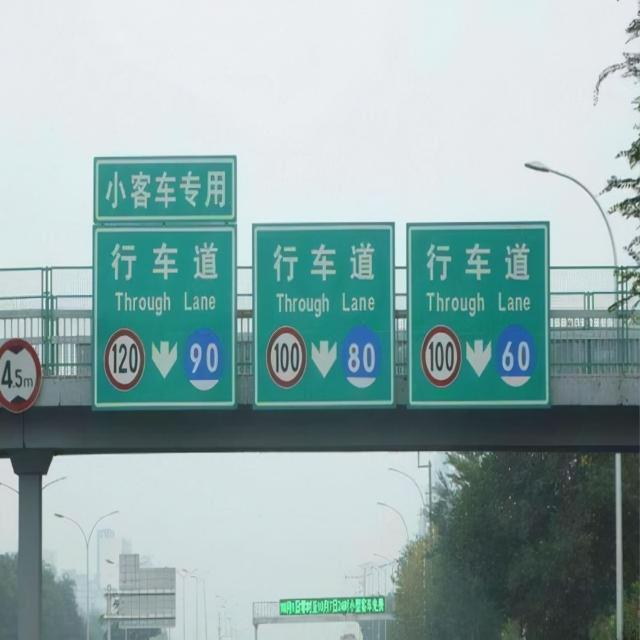speed limit 100: (420, 322, 461, 390), (265, 327, 308, 391)
speed limit 120: (104, 328, 145, 392)
speed limit 60: (496, 324, 538, 388)
speed limit 80: (341, 322, 382, 390)
speed limit 90: (183, 328, 224, 391)
